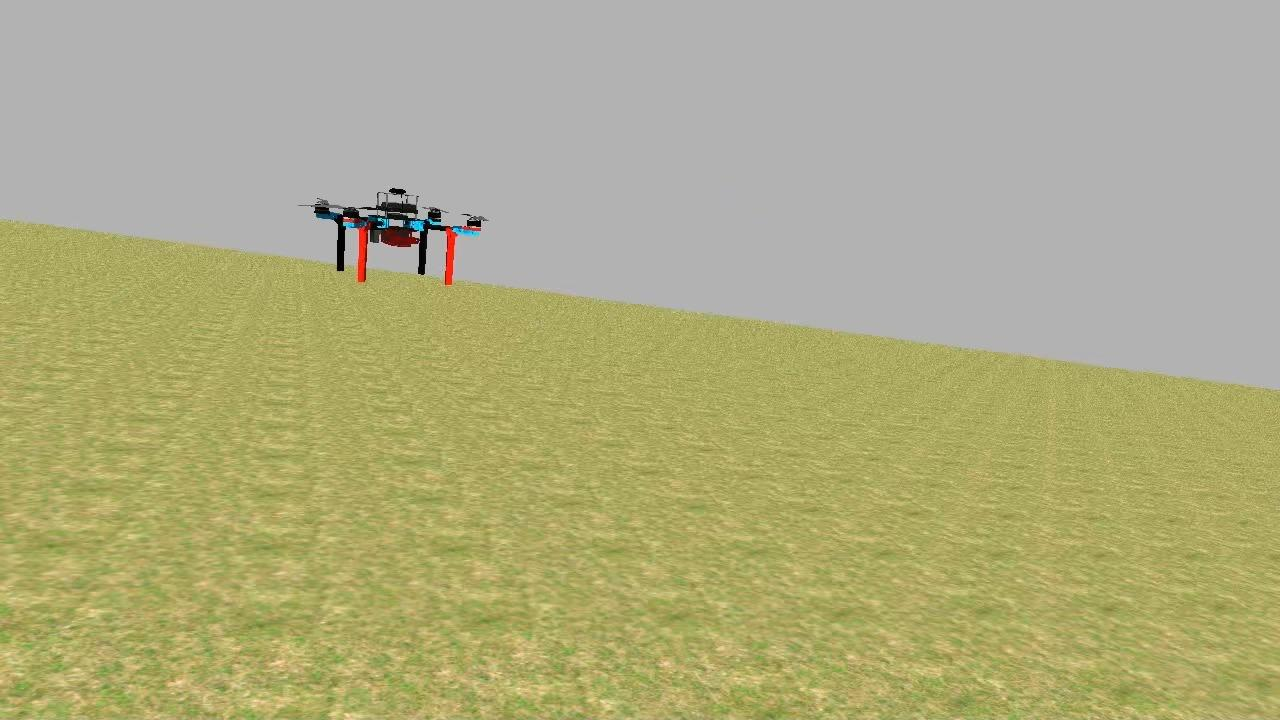UAV: (304, 182, 490, 296)
